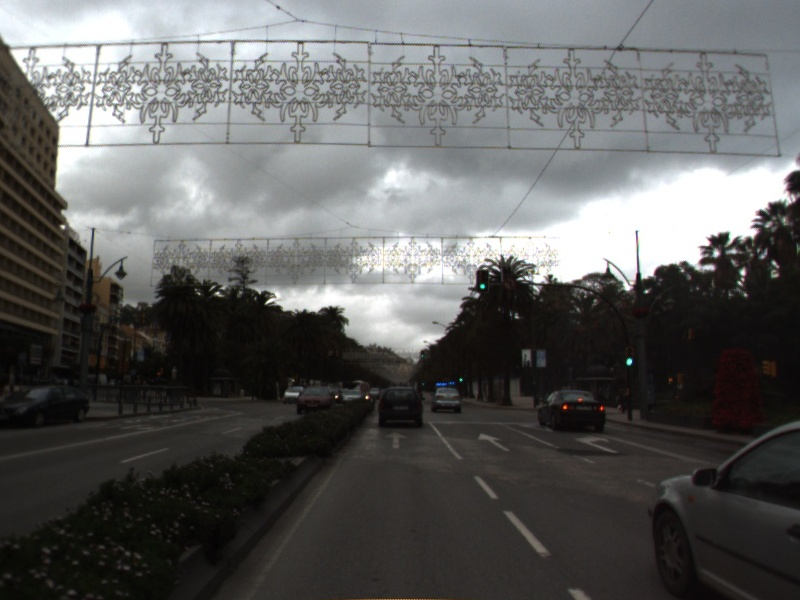RIGHT: (573, 433, 621, 455)
STRAIGHT: (475, 431, 513, 453), (383, 429, 410, 450)
